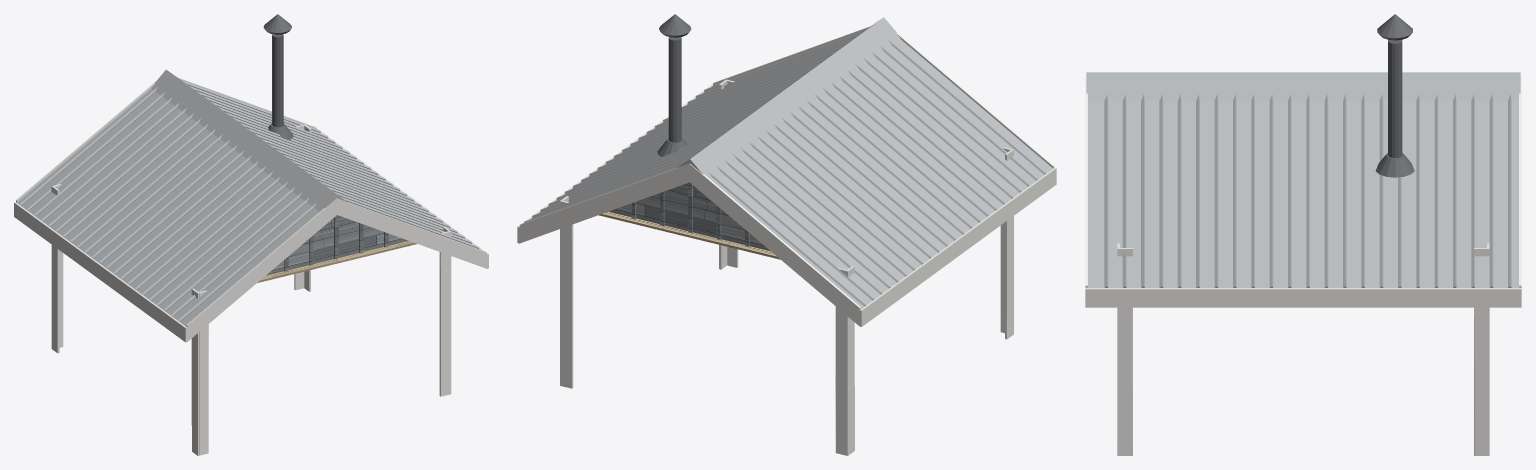
The model's file is o_roof.glb.
3 renders of one model, left to right at view 1: azimuth 30°, elevation 25°; view 2: azimuth 150°, elevation 25°; view 3: azimuth 270°, elevation 25°, orthographic. The views are drawn at different scales.
Visible parts, largest first — view 1: o_roof_roofm, o_roof_trim, o_roof_siding, o_roof_iron, o_roof_ceil, o_roof_batten; view 2: o_roof_roofm, o_roof_trim, o_roof_siding, o_roof_iron, o_roof_ceil, o_roof_batten; view 3: o_roof_roofm, o_roof_trim, o_roof_iron.
Boxes of the visible parts, bbox=[...] form: o_roof_roofm: bbox=[17, 69, 479, 326]; o_roof_trim: bbox=[14, 77, 488, 455]; o_roof_siding: bbox=[266, 215, 408, 275]; o_roof_iron: bbox=[263, 14, 293, 140]; o_roof_ceil: bbox=[257, 241, 416, 282]; o_roof_batten: bbox=[284, 215, 388, 271]; o_roof_roofm: bbox=[524, 17, 1052, 308]; o_roof_trim: bbox=[517, 26, 1056, 455]; o_roof_siding: bbox=[609, 183, 770, 251]; o_roof_iron: bbox=[657, 14, 691, 156]; o_roof_ceil: bbox=[599, 211, 780, 259]; o_roof_batten: bbox=[631, 182, 749, 246]; o_roof_roofm: bbox=[1086, 72, 1520, 287]; o_roof_trim: bbox=[1085, 77, 1521, 455]; o_roof_iron: bbox=[1375, 14, 1414, 177].
Size of the model in its own units: 4.86 by 4.84 by 4.76.
Materials: 9 (4 with a texture image).
